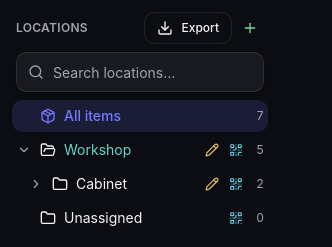
LocationSidebar — name search (issue #129) › narrows the tree to matches and opens the branches leading to them
Expected: the list item "Drawer" is not shown
Step 1. Type "drawer" into the field labelled "Search locations" → (140, 72), box [16,52,264,92]
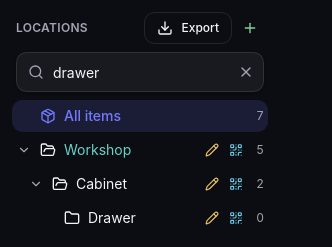
Expected: the list item "Cabinet" is shown, [12,168,268,200]
Now the list item "Drawer" is shown, box [64,206,264,230]
Now the text "Unassigned" is gone
